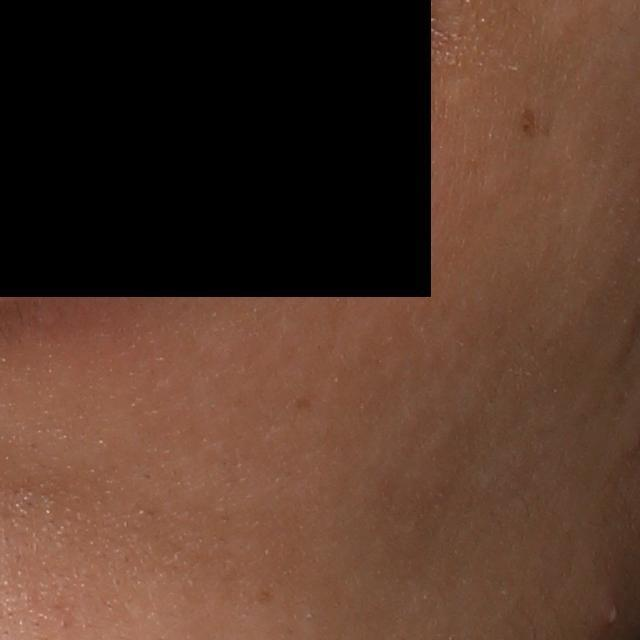pustule: (596, 584, 626, 634)
